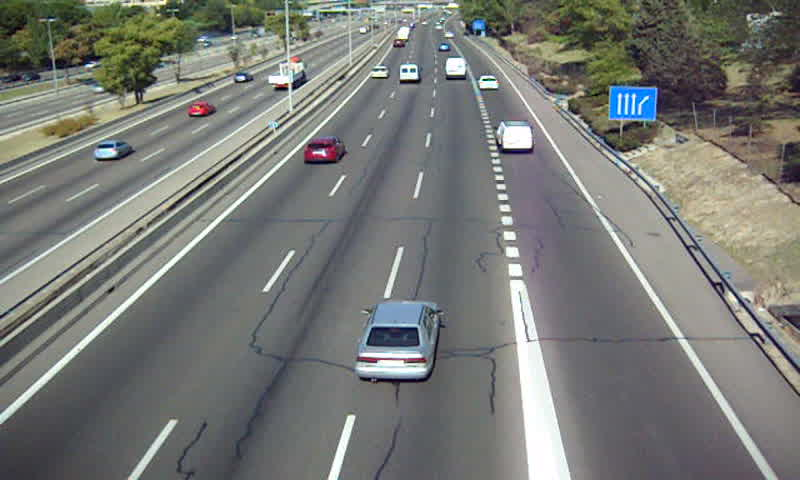car: (354, 300, 440, 382), (304, 138, 344, 163), (477, 74, 500, 90), (370, 64, 388, 77)
van: (495, 121, 534, 154), (445, 57, 467, 79), (398, 63, 419, 84)
